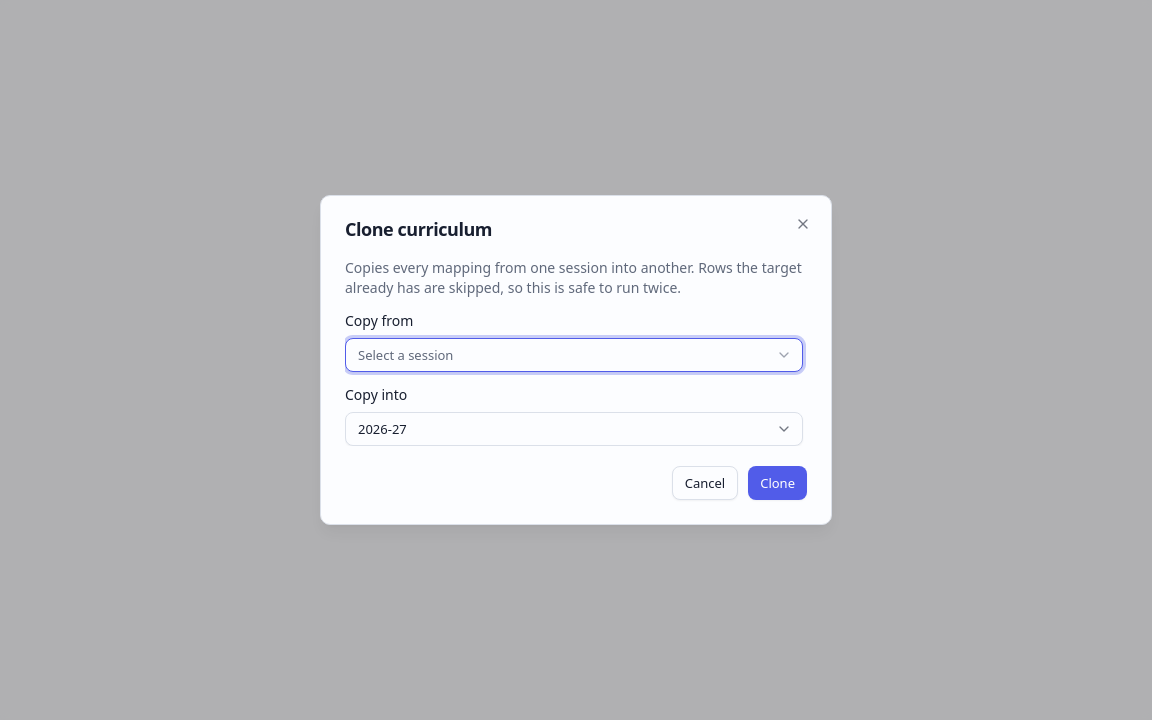
it: CloneCurriculumDialog › shows a 422 inline and stays open
The image size is (1152, 720).
What coordinates should you click on to do the following:
click the dropdown named "Copy from"
I would click on:
 (406, 355)
Its box is [345,338,803,372].
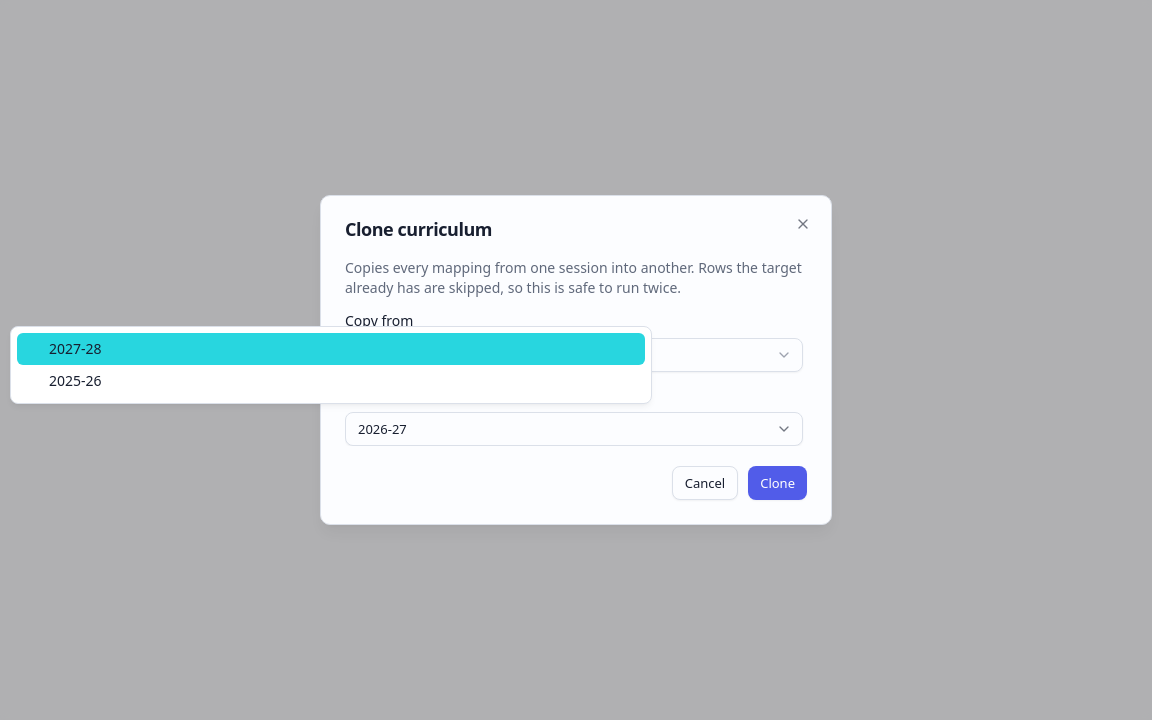
What coordinates should you click on to do the following:
click the option "2025-26"
I would click on:
 (75, 380)
Its box is [49,371,102,390].
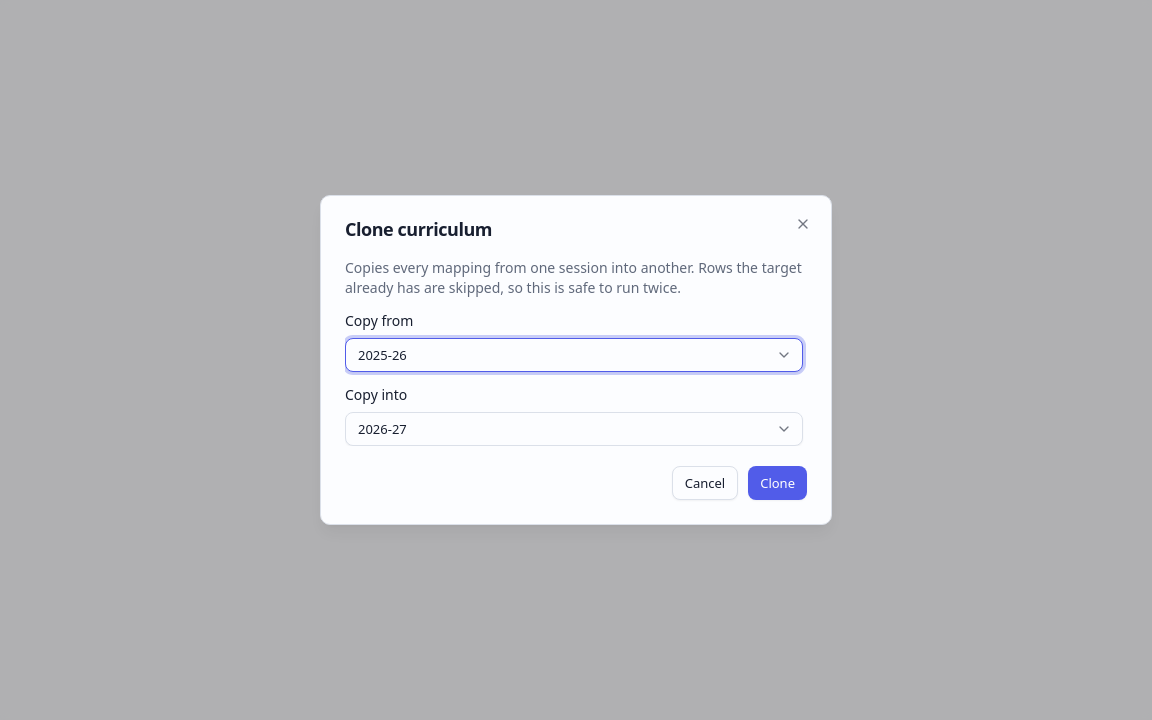
What coordinates should you click on to do the following:
click the button "Clone"
I would click on:
 (778, 483)
Its box is [748,466,807,500].
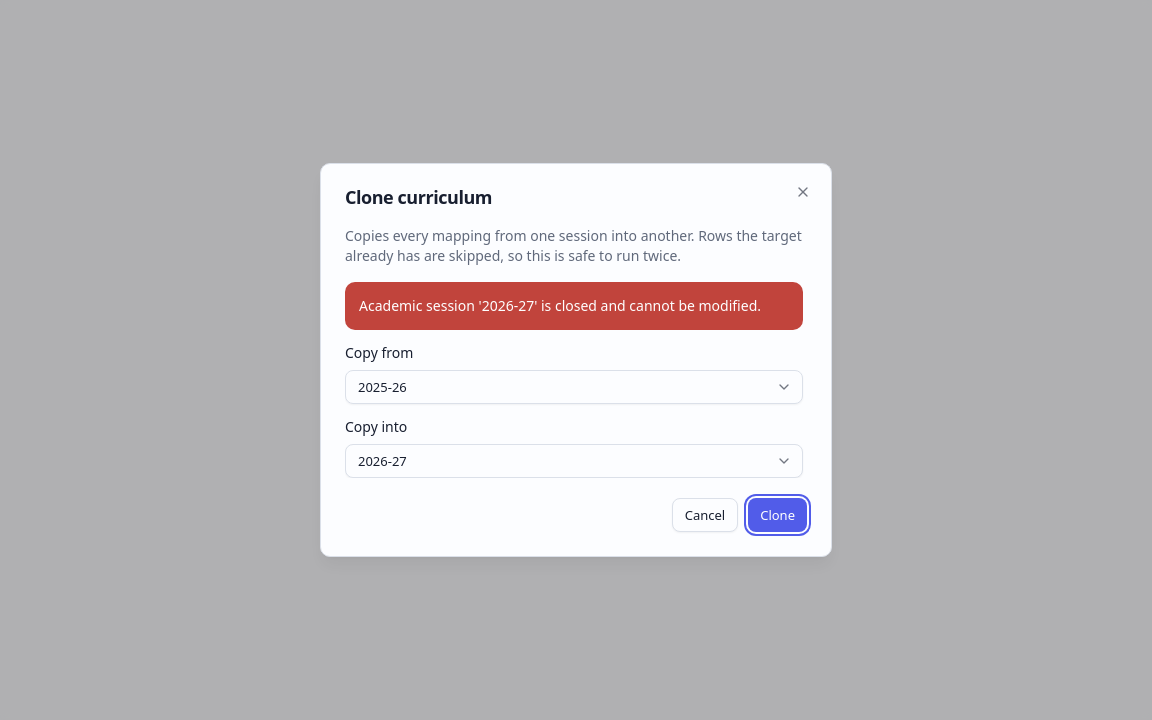
Expected: the text "Academic session '2026-27' is closed and cannot be modified." is shown, [345,282,803,330]
